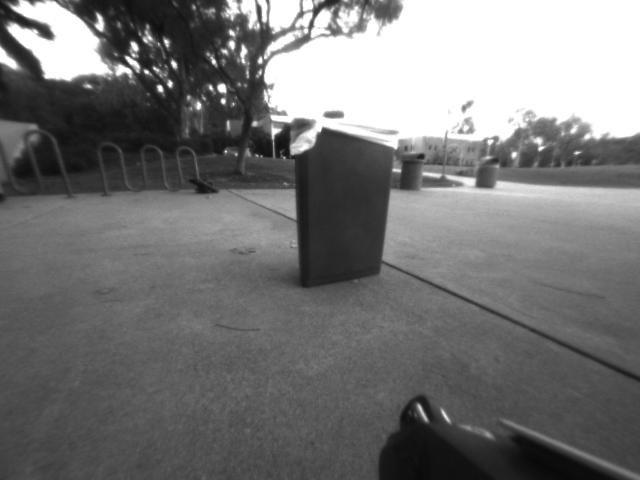trashcan: (286, 110, 402, 298)
